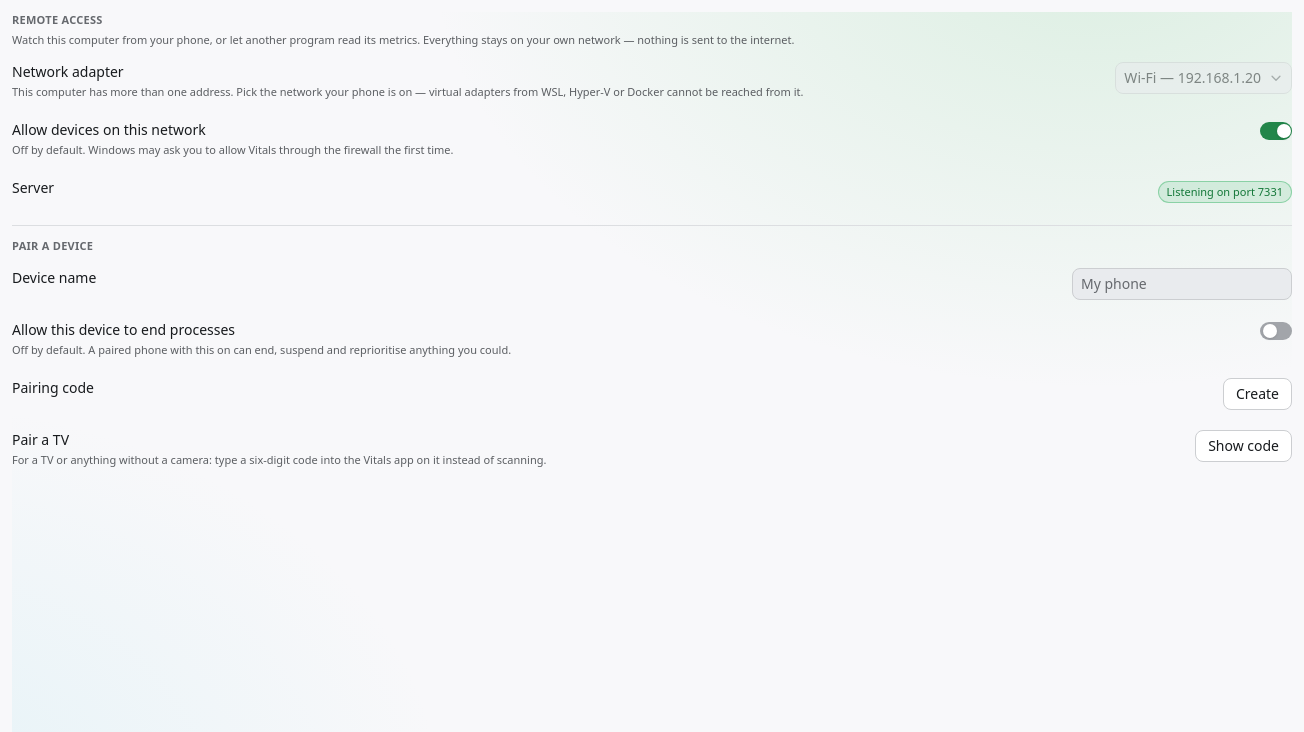
Scenario: RemoteAccessPanel › shows a TV code grouped three and three with a countdown, created read-only by default
Click the button named "pair a tv" at (1244, 446), box [1195,430,1292,462]
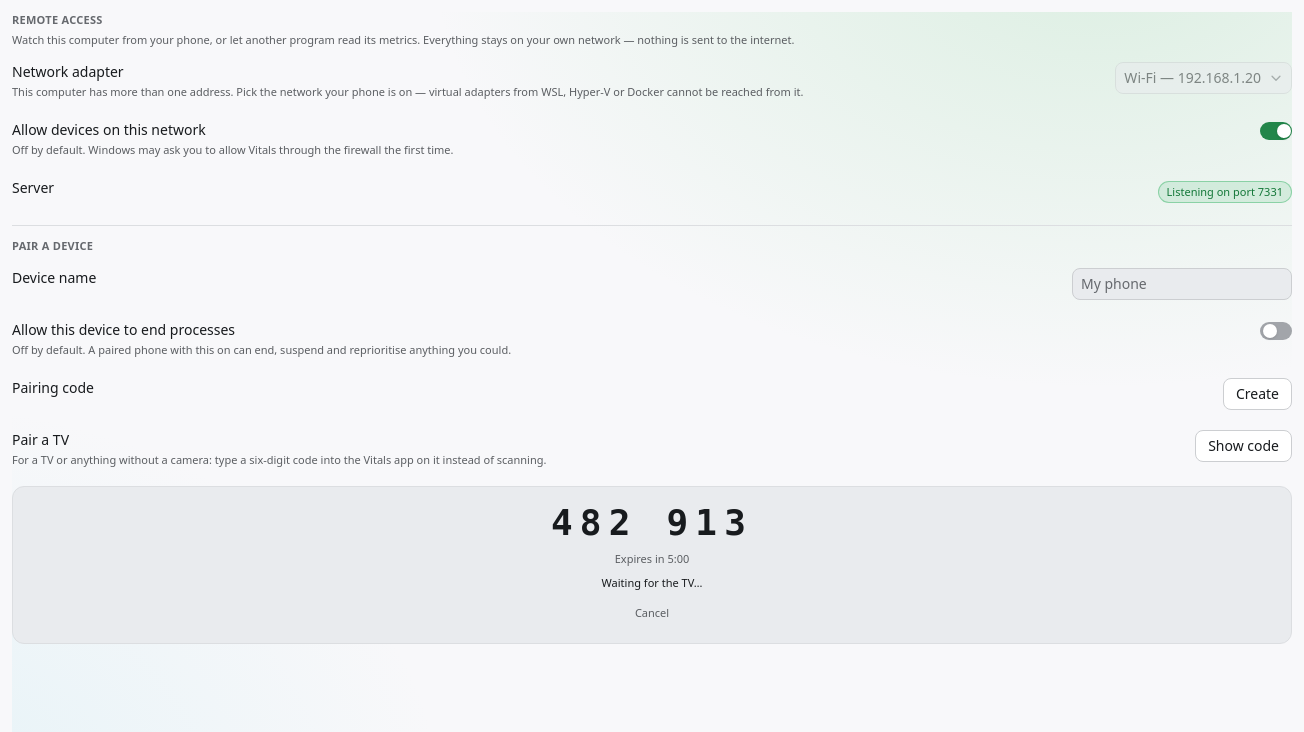
Expected: the text "482 913" is shown, [551,502,753,543]
Expected: the element named "Pairing code 4 8 2 9 1 3" is shown, [551,503,753,543]
Expected: the text "Expires in 5:00" is shown, [615,551,689,567]
